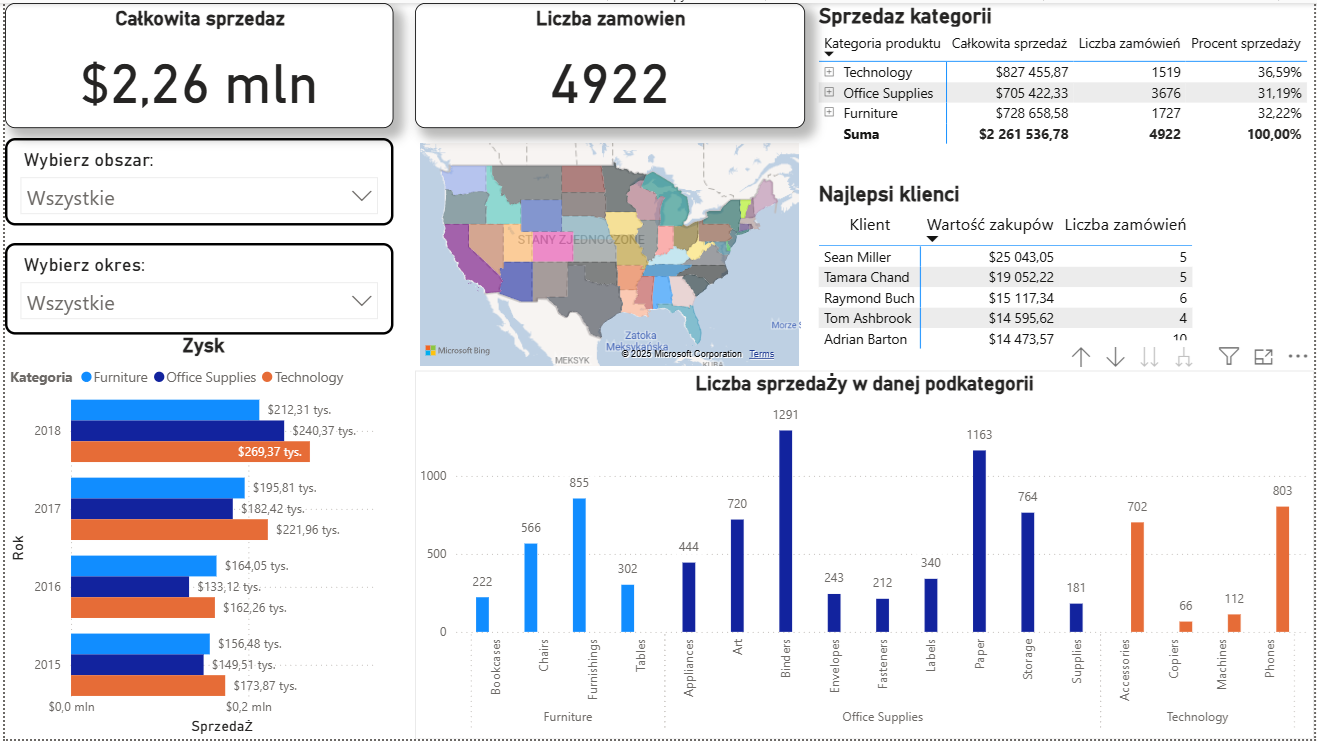

Layout of this report page (visuals, bound fields, positions):
{"tool":"powerbi","page":{"name":"Strona 1","canvas":[1280,720],"ordinal":0},"visuals":[{"type":"filledMap","fields":{"Category":["Regiony.Stan"],"Series":["Regiony.Stan"]},"box":[400.7,131.7,381.5,227.8],"z":0},{"type":"clusteredBarChart","title":"Zysk","fields":{"Category":["Kalendarz.Rok Hierarchia.Rok","Kalendarz.Rok Hierarchia.Kwartał","Kalendarz.Rok Hierarchia.Miesiąc","Kalendarz.Rok Hierarchia.Dzień"],"Y":["Zamowienia.Sprzedaz"],"Series":["Produkty.Kategoria"]},"box":[0,323.8,388.3,396.6],"z":1000},{"type":"slicer","fields":{"Values":["Kalendarz.Rok Hierarchia.Rok","Kalendarz.Rok Hierarchia.Kwartał","Kalendarz.Rok Hierarchia.Miesiąc","Kalendarz.Rok Hierarchia.Dzień"]},"box":[0,234.8,380.3,89.3],"z":2000},{"type":"slicer","title":"asdsad","fields":{"Values":["Regiony.Region","Regiony.Stan"]},"box":[0,132.1,380.3,85.6],"z":3000},{"type":"pivotTable","title":"Sprzedaz kategorii","fields":{"Rows":["Produkty.Kategoria","Produkty.Podkategoria","Klienci.Segment"],"Values":["Zamowienia.Całkowita sprzedaż","Zamowienia.Liczba zamówień","Divide(Zamowienia.Całkowita sprzedaż, ScopedEval(Zamowienia.Całkowita sprzedaż, []))"]},"box":[791.8,0,488.5,174.3],"z":4000},{"type":"card","title":"Liczba zamowien","fields":{"Values":["Zamowienia.Liczba zamówień"]},"box":[400.7,0,381.5,122.1],"z":5000},{"type":"card","title":"Całkowita sprzedaz","fields":{"Values":["Zamowienia.Sprzedaz"]},"box":[0,0,380.3,122.3],"z":6000},{"type":"pivotTable","title":"Najlepsi klienci","fields":{"Rows":["Klienci.Nazwa_Klienta"],"Values":["Zamowienia.Całkowita sprzedaż","Zamowienia.Liczba zamówień"]},"box":[791.2,174.9,487.9,184.6],"z":7000},{"type":"lineClusteredColumnComboChart","title":"Liczba sprzedaży w danej podkategorii","fields":{"Series":["Produkty.Kategoria"],"Category":["Produkty.Kategoria","Produkty.Podkategoria"],"Y":["Zamowienia.Liczba zamówień"]},"box":[400.7,359.5,879.6,360.9],"z":8000}]}

Visuals, with their boxes in screenshot pixels (x1, y1, x2, y2), scaled from the page's 1280x720 canvas onto the 1317x744 screenshot:
filledMap - Regiony.Stan x Regiony.Stan: [x1=412, y1=136, x2=805, y2=371]
"Zysk" clusteredBarChart: [x1=0, y1=335, x2=400, y2=743]
slicer - Kalendarz.Rok Hierarchia.Rok x Kalendarz.Rok Hierarchia.Kwartał: [x1=0, y1=243, x2=391, y2=335]
"asdsad" slicer: [x1=0, y1=137, x2=391, y2=225]
"Sprzedaz kategorii" pivotTable: [x1=815, y1=0, x2=1316, y2=180]
"Liczba zamowien" card: [x1=412, y1=0, x2=805, y2=126]
"Całkowita sprzedaz" card: [x1=0, y1=0, x2=391, y2=126]
"Najlepsi klienci" pivotTable: [x1=814, y1=181, x2=1316, y2=371]
"Liczba sprzedaży w danej podkategorii" lineClusteredColumnComboChart: [x1=412, y1=371, x2=1316, y2=743]
